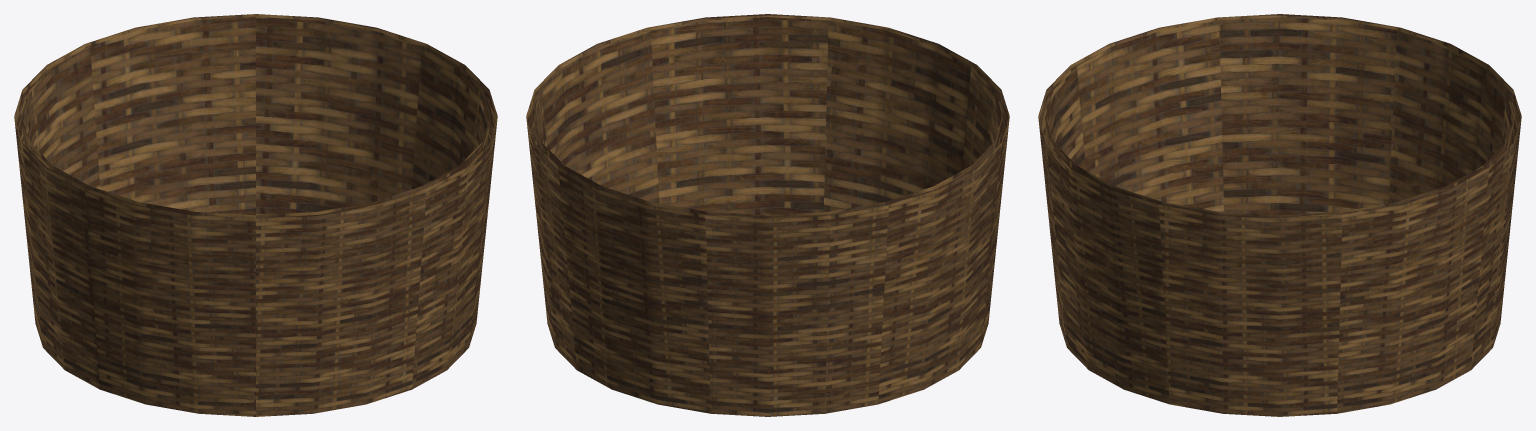
Rendered from laundry-basket.glb.
3 renders of one model, left to right at view 1: azimuth 30°, elevation 25°; view 2: azimuth 150°, elevation 25°; view 3: azimuth 270°, elevation 25°, orthographic.
Parts seen in each view (by area): view 1: laundry-basket; view 2: laundry-basket; view 3: laundry-basket.
Part boxes in pixels (x1=…): laundry-basket: x1=14, y1=14, x2=497, y2=416; laundry-basket: x1=526, y1=14, x2=1009, y2=416; laundry-basket: x1=1038, y1=14, x2=1521, y2=416.
Bounding box in the file's own units: 0.65 × 0.3079 × 0.65.
1 material, 1 textured.
